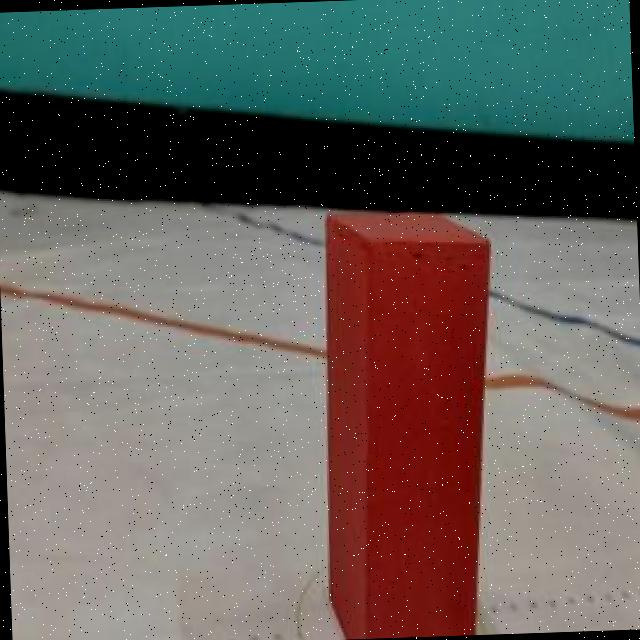redbox: (312, 199, 502, 640)
